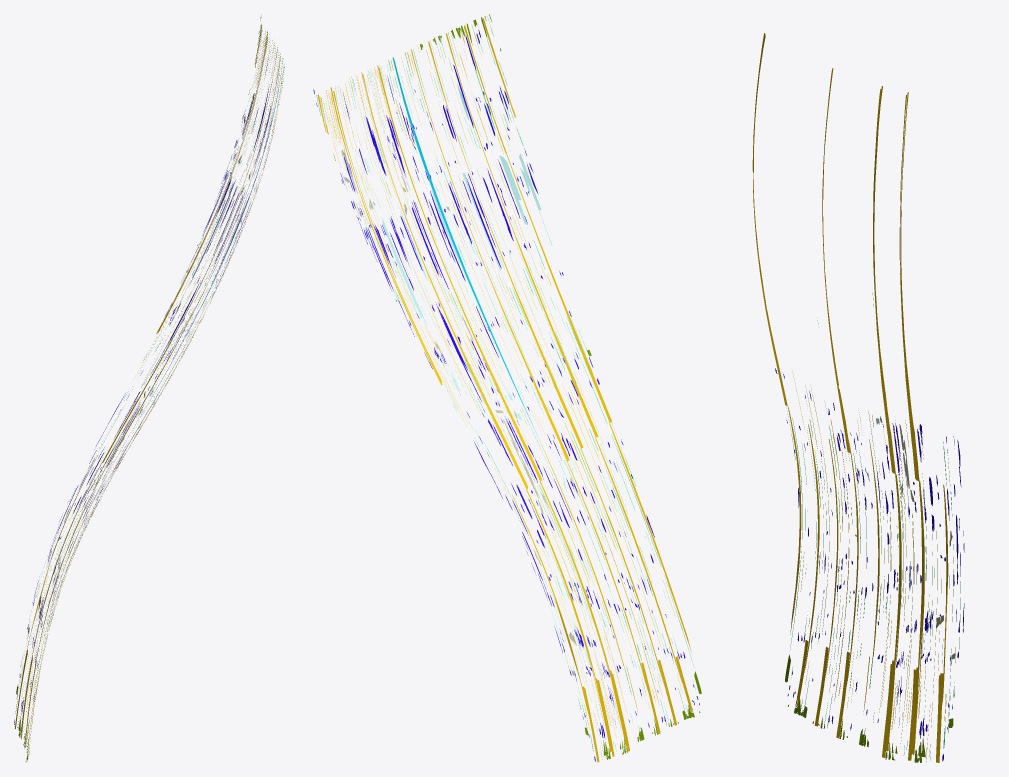
Rendered from alldefects.glb.
3 renders of one model, left to right at view 1: azimuth 30°, elevation 25°; view 2: azimuth 150°, elevation 25°; view 3: azimuth 270°, elevation 25°, orthographic. The views are drawn at different scales.
Visible parts, largest first — view 1: front 0, front 321; view 2: front 0, front 321, front 212, front 36, front 371, front 26, front 372; view 3: front 0, front 321, front 212, front 26.
Part boxes in pixels (x1=…): front 0: x1=15, y1=25, x2=284, y2=756; front 321: x1=14, y1=17, x2=279, y2=752; front 0: x1=317, y1=18, x2=692, y2=762; front 321: x1=313, y1=30, x2=699, y2=761; front 212: x1=316, y1=16, x2=695, y2=759; front 36: x1=382, y1=83, x2=566, y2=491; front 371: x1=392, y1=57, x2=537, y2=435; front 26: x1=333, y1=14, x2=701, y2=759; front 372: x1=341, y1=132, x2=578, y2=675; front 0: x1=752, y1=33, x2=955, y2=762; front 321: x1=775, y1=368, x2=964, y2=761; front 212: x1=787, y1=293, x2=960, y2=760; front 26: x1=785, y1=654, x2=953, y2=762.
Size of the model in its own units: 0.8461 by 1.7 by 0.4669.
